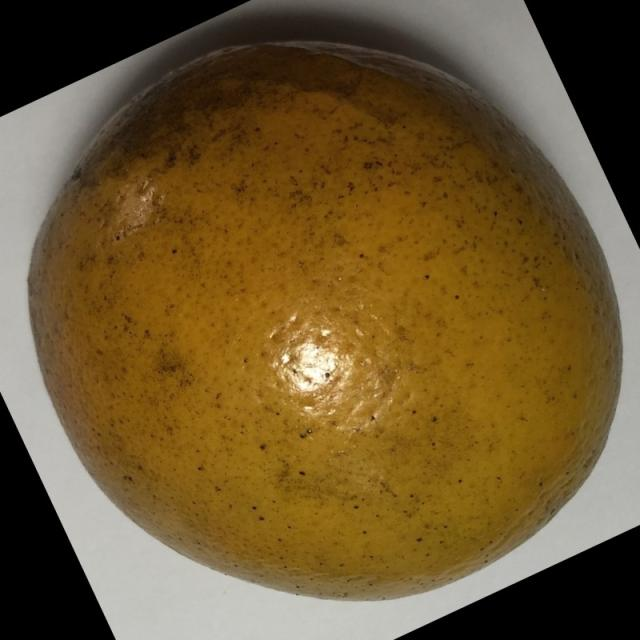black spot: (15, 16, 632, 610)
